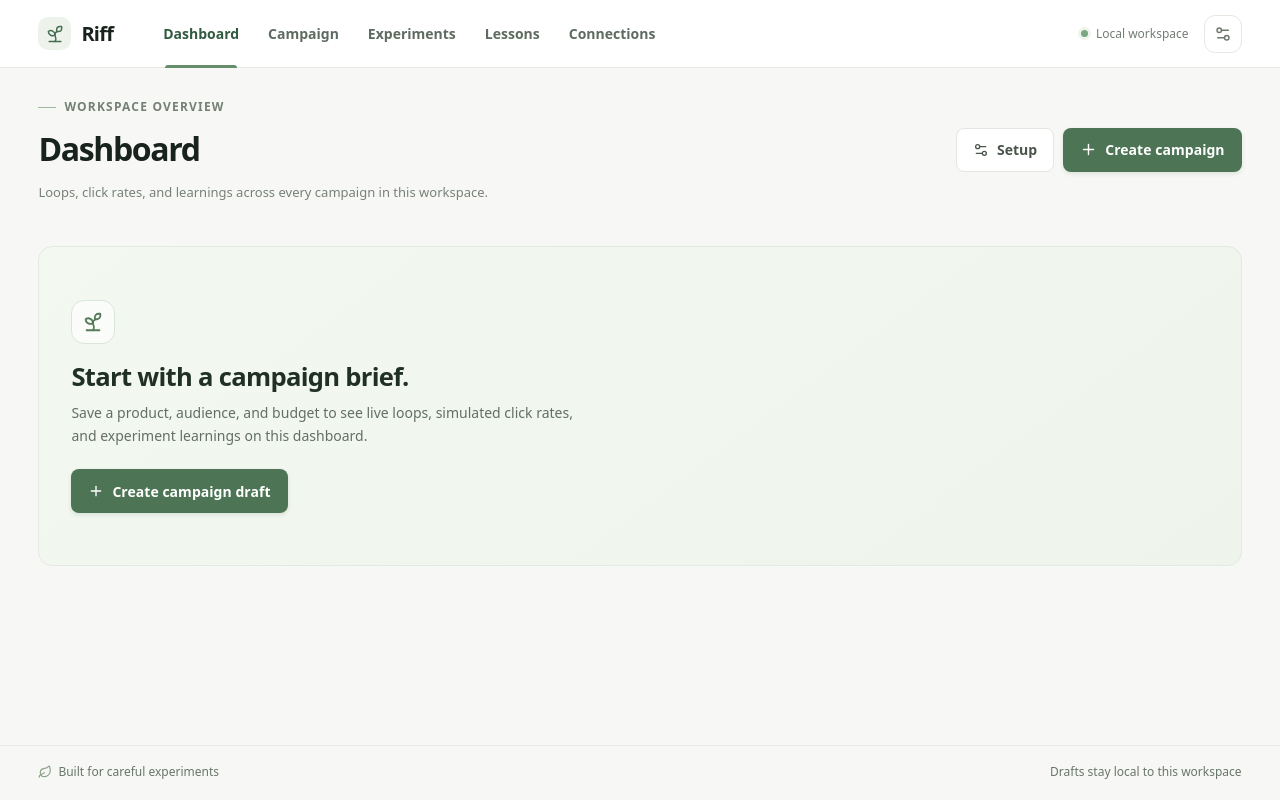
Test case: Riff dashboard › keeps keyboard focus inside the setup drawer and restores the opener on Escape
Click the button "Setup" at (1005, 150), box [956,128,1054,172]
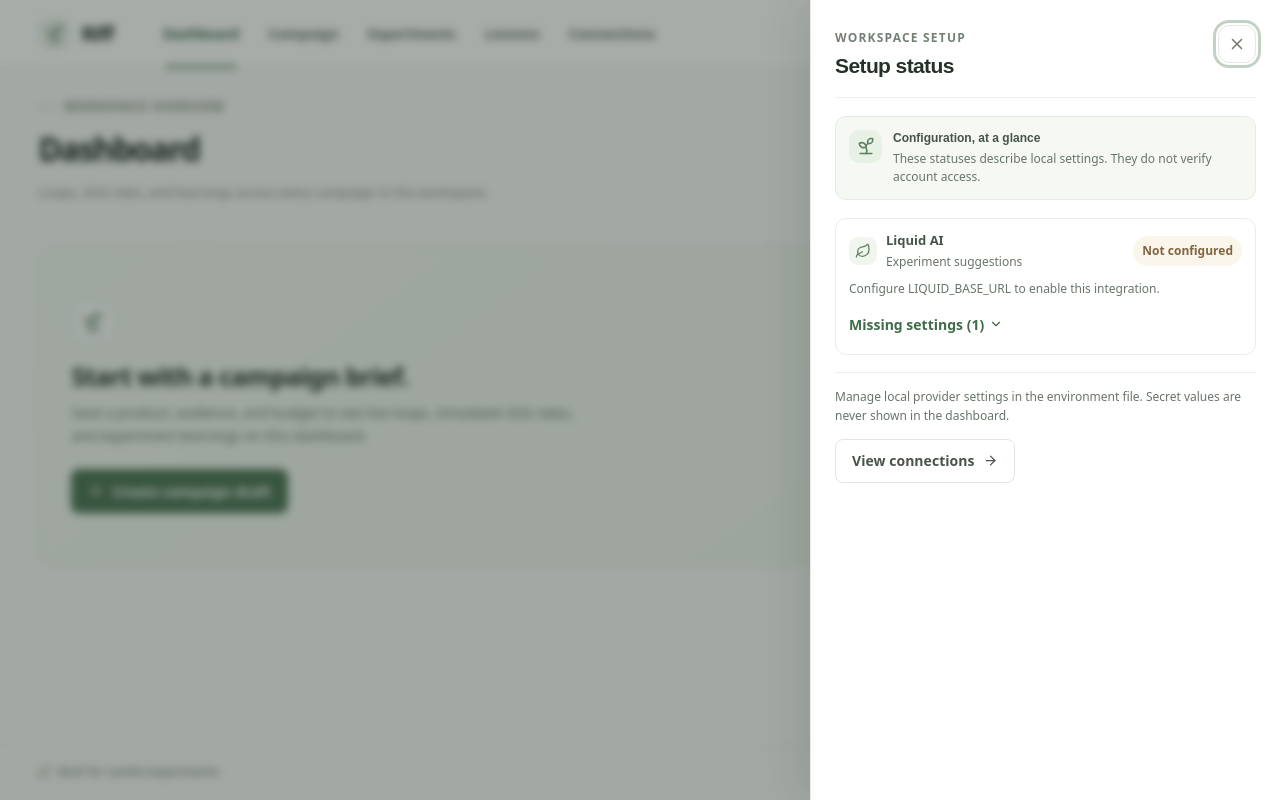
Press Shift+Tab
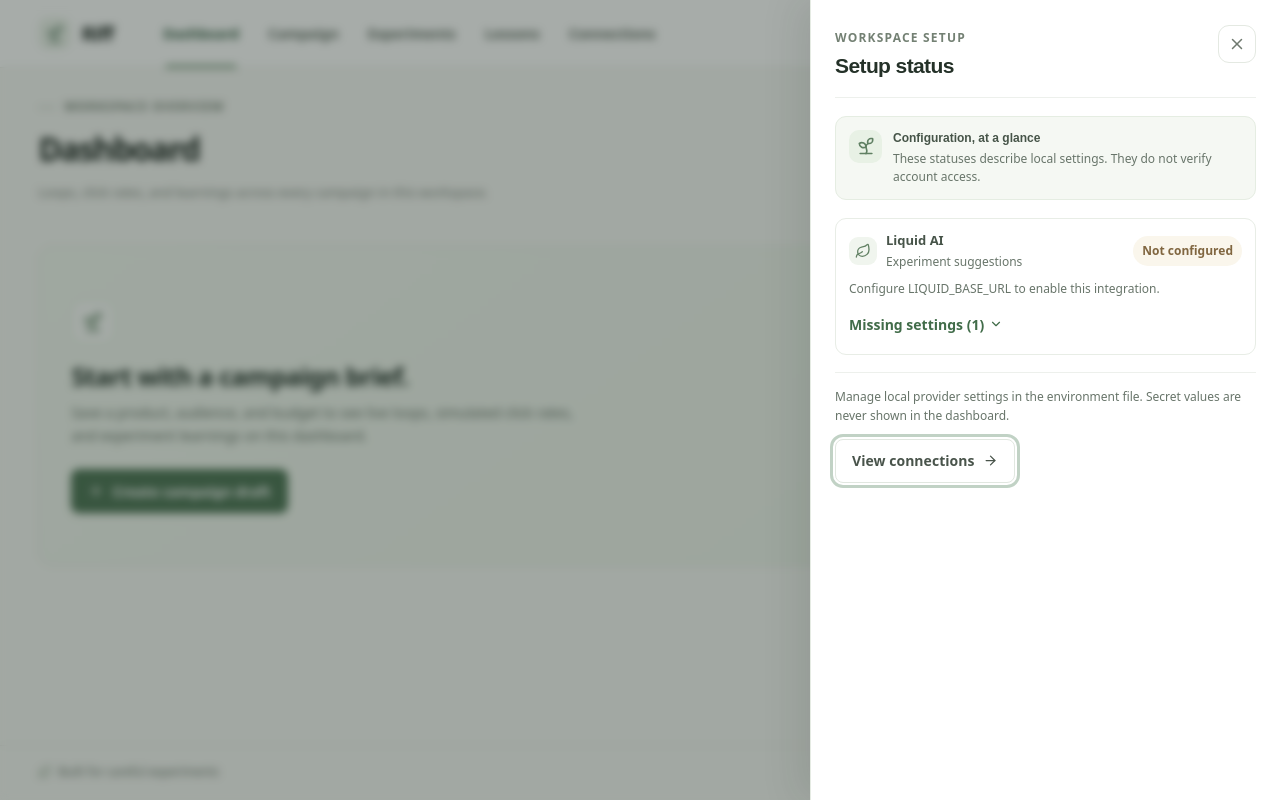
Press Tab
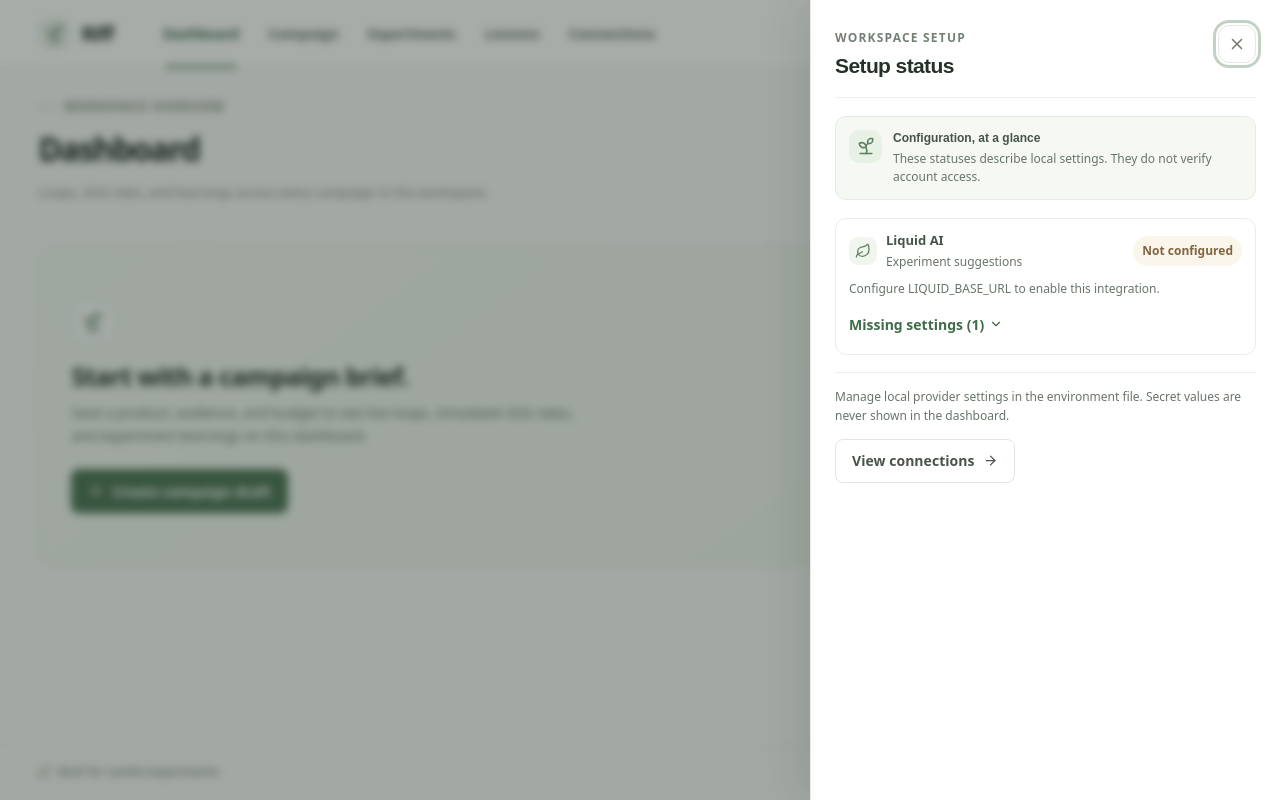
Press Escape
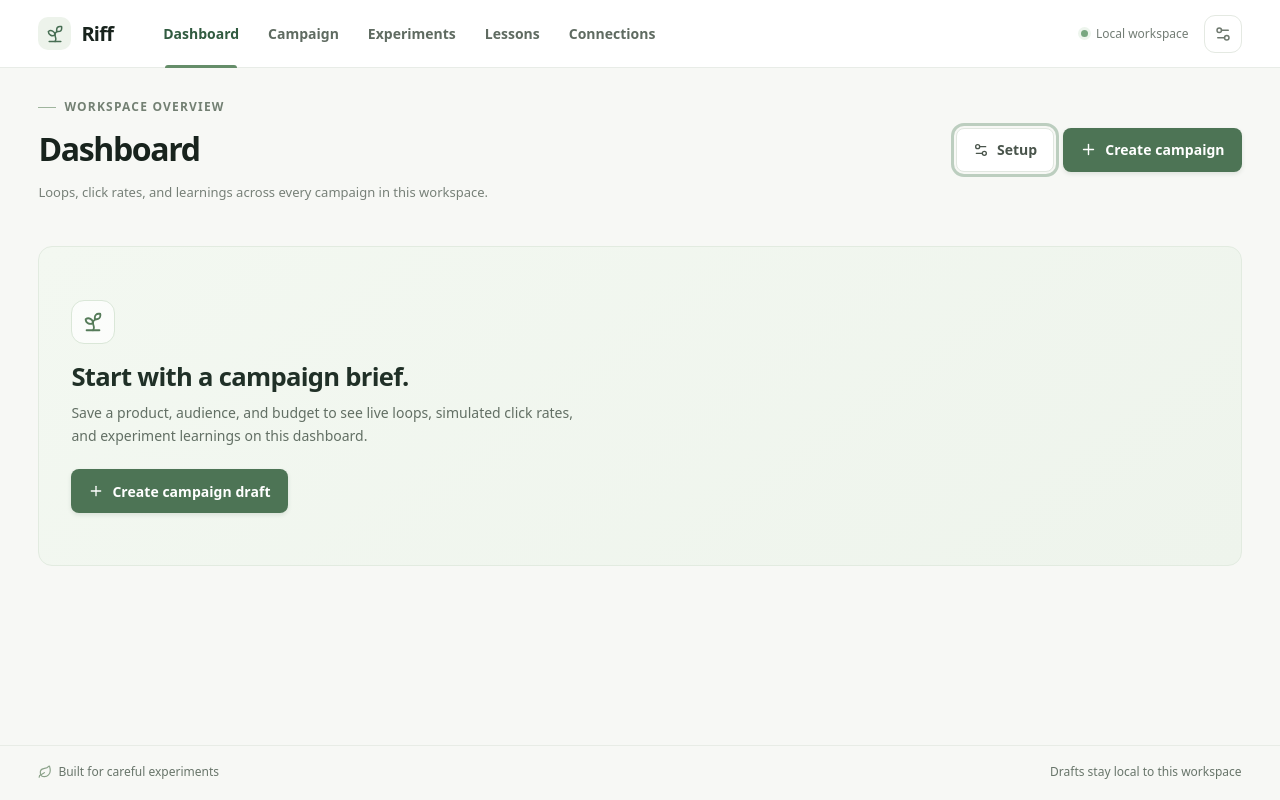
Expected: the heading "Setup status" is gone
